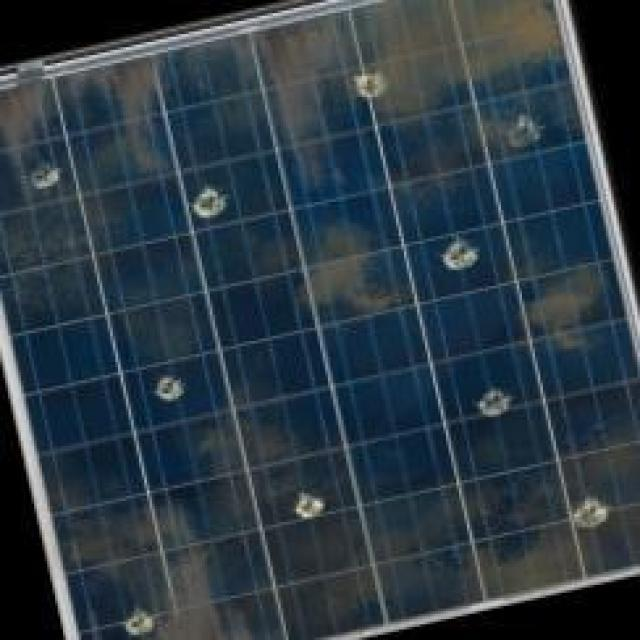Physical-damage: (404, 194, 511, 298), (160, 160, 254, 256), (3, 134, 78, 233), (137, 338, 200, 454), (328, 55, 404, 128), (276, 475, 345, 541), (501, 100, 555, 174), (562, 488, 628, 548), (465, 380, 536, 432), (107, 590, 175, 639)
